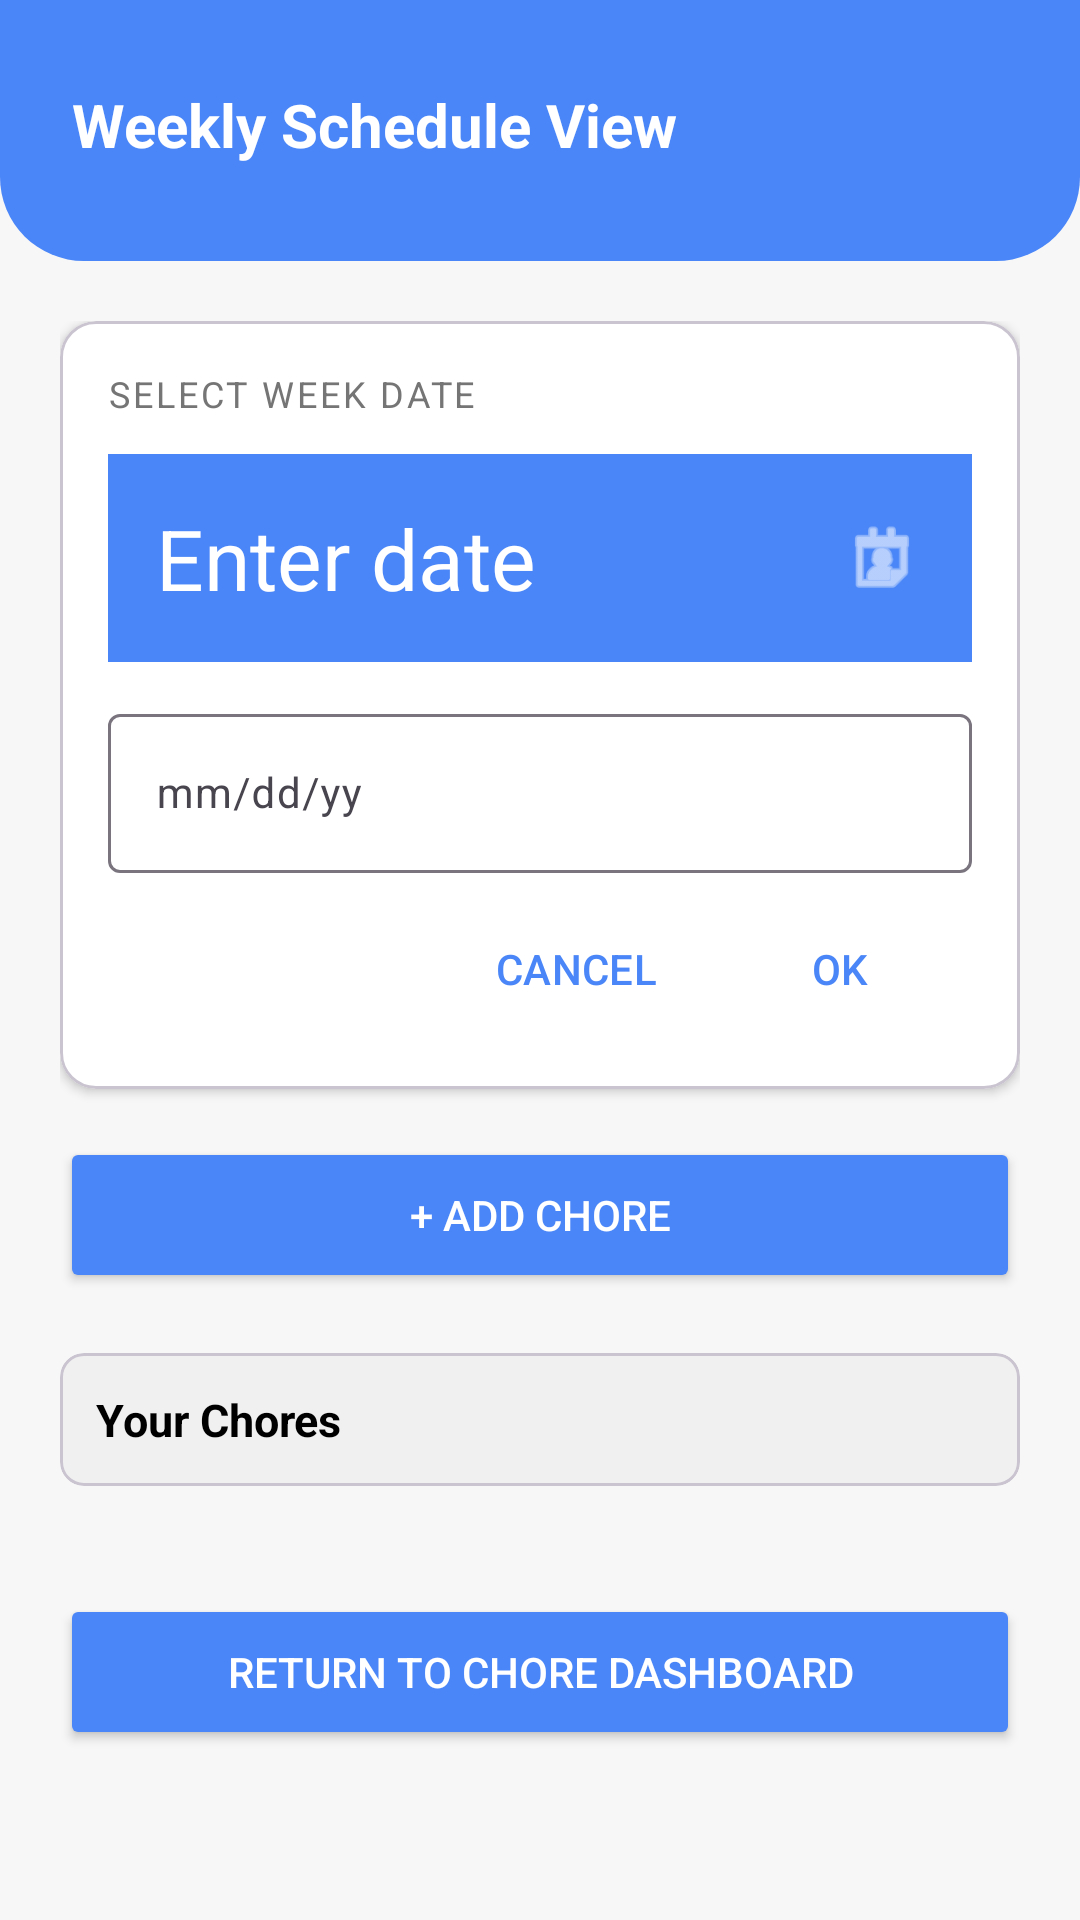

Icons on this 1080x1920 Android screen, each with the point to tap as point (x, y):
Calendar: point (882, 557)
